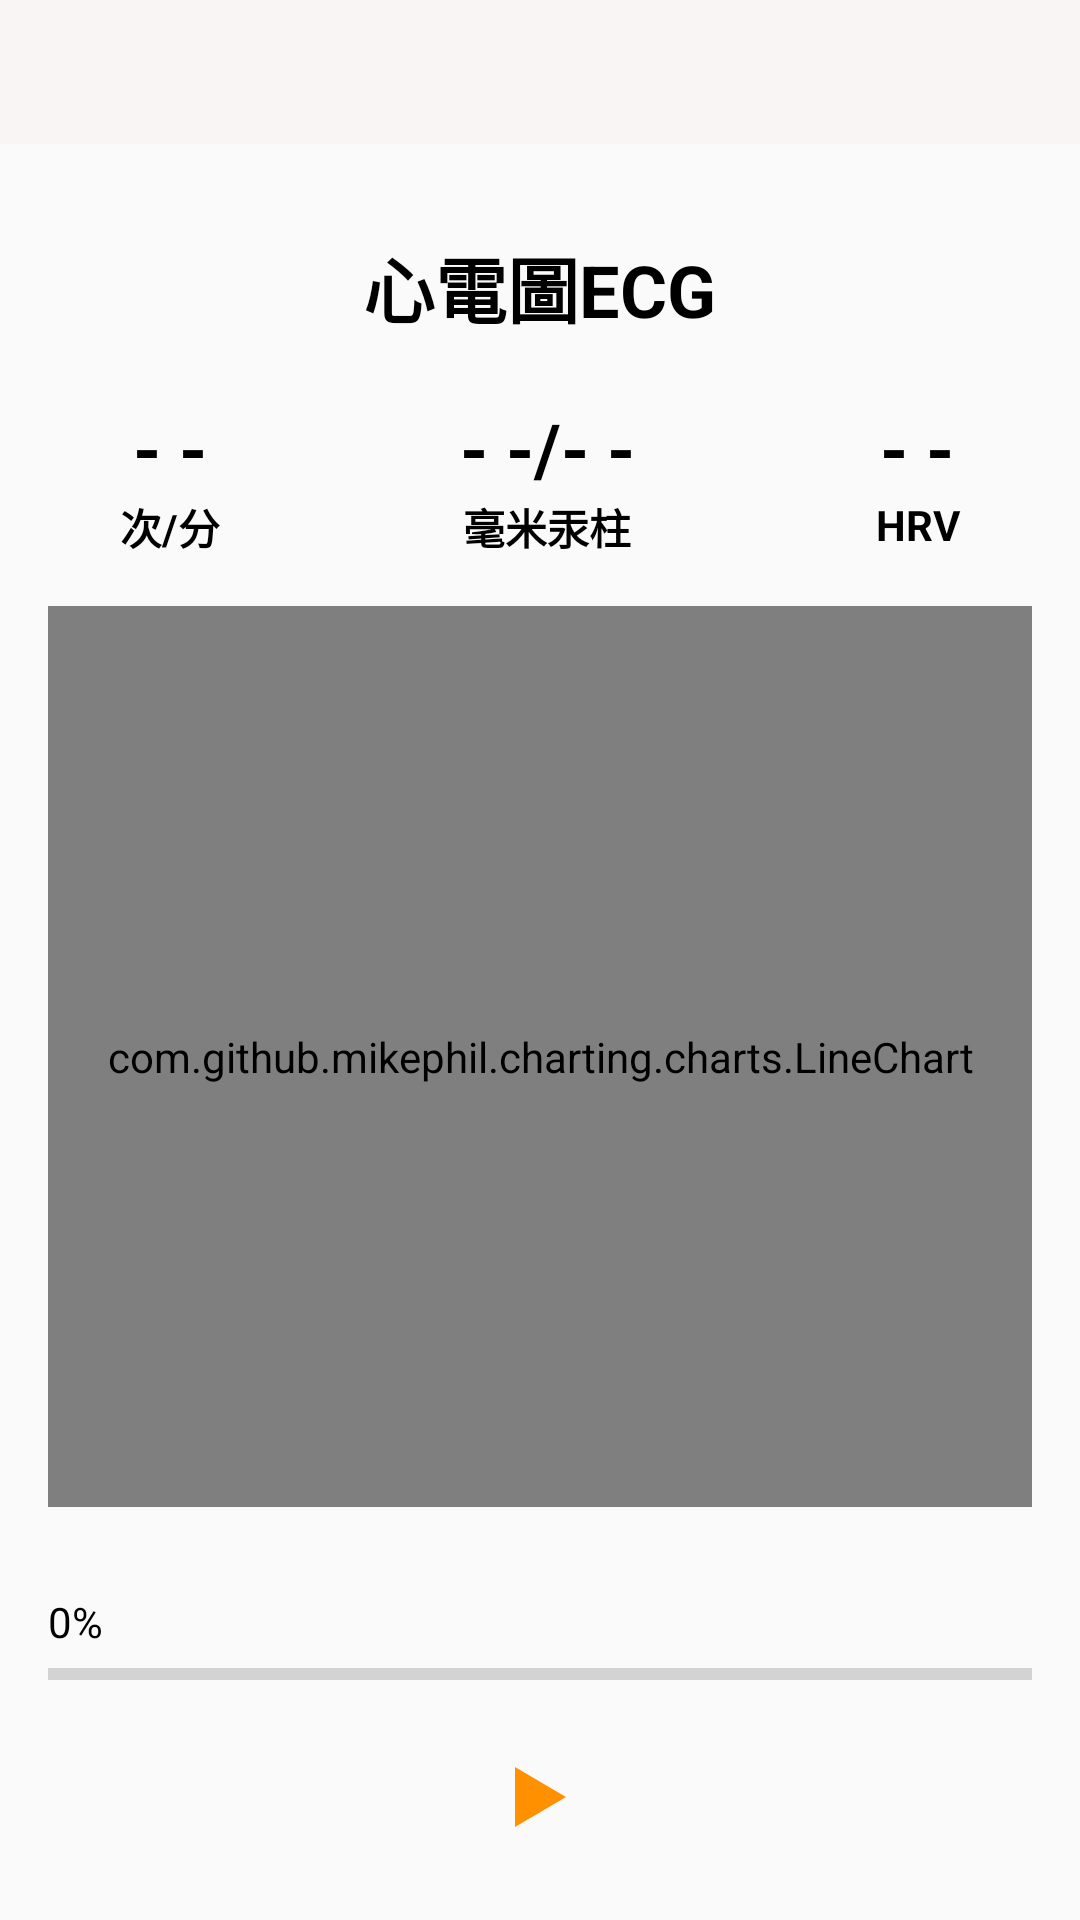

Icons on this 1080px×1920px Android screen, each with its box as (x1, y1, x2, y2):
ecg play: (515, 1767, 566, 1827)
